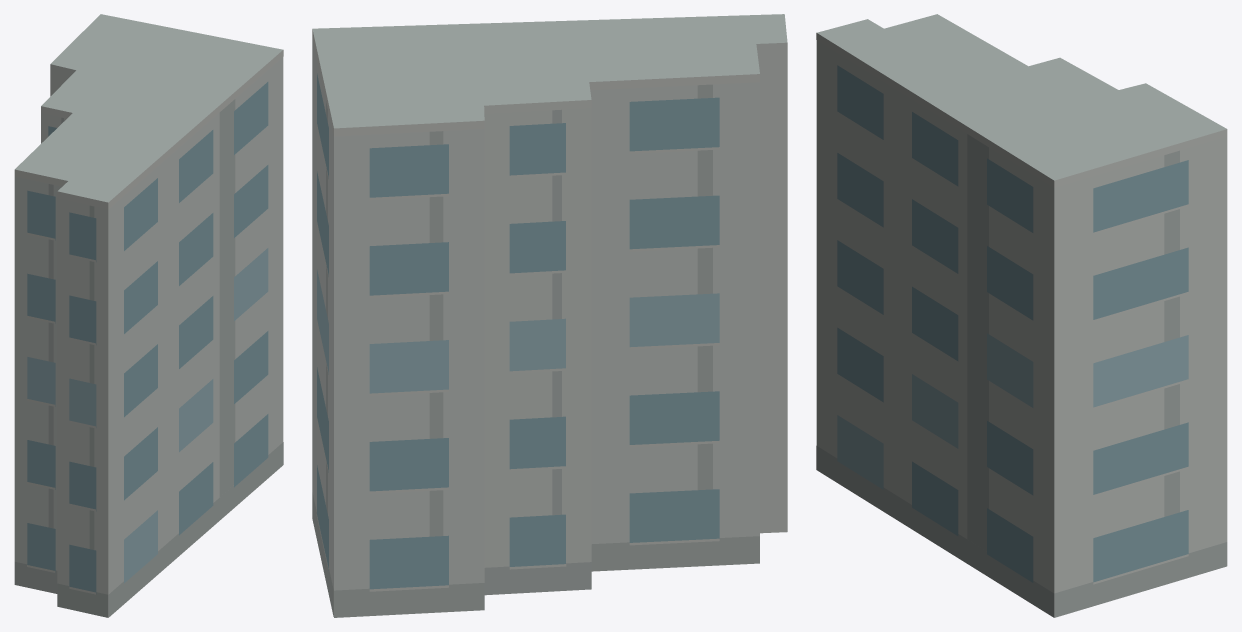
File: survey-upis-32842076.glb
3 views of the same model, side by side, from view 1: azimuth 30°, elevation 25°; view 2: azimuth 150°, elevation 25°; view 3: azimuth 270°, elevation 25° (orthographic). The views are drawn at different scales.
Visible parts, largest first — view 1: survey-upis-32842076.tmp; view 2: survey-upis-32842076.tmp; view 3: survey-upis-32842076.tmp.
Boxes of the visible parts, x1,y1,x2,y2 form: survey-upis-32842076.tmp: [14, 14, 283, 617]; survey-upis-32842076.tmp: [312, 14, 787, 617]; survey-upis-32842076.tmp: [816, 14, 1227, 617].
Bounding box in the file's own units: 11.78 × 14.4 × 12.27.
